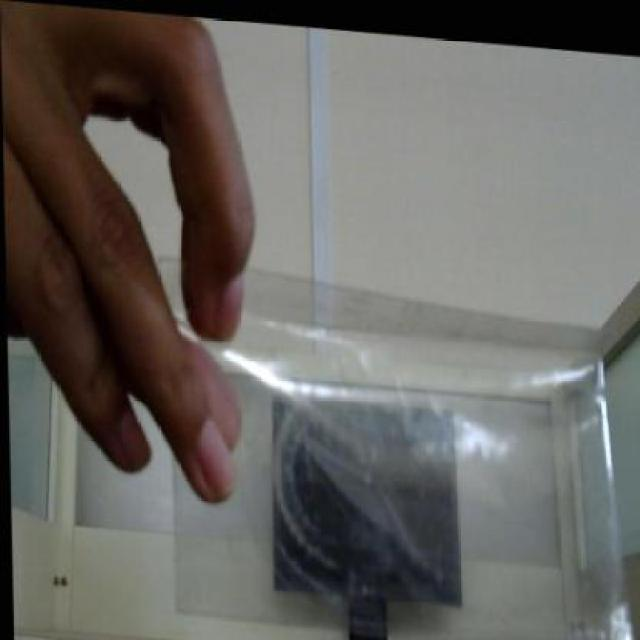Plastic: (145, 247, 640, 640)
